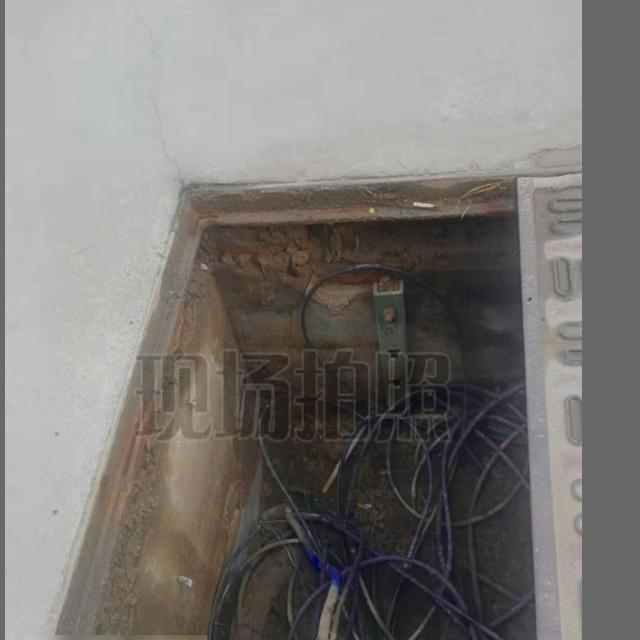lose: (10, 170, 582, 640)
